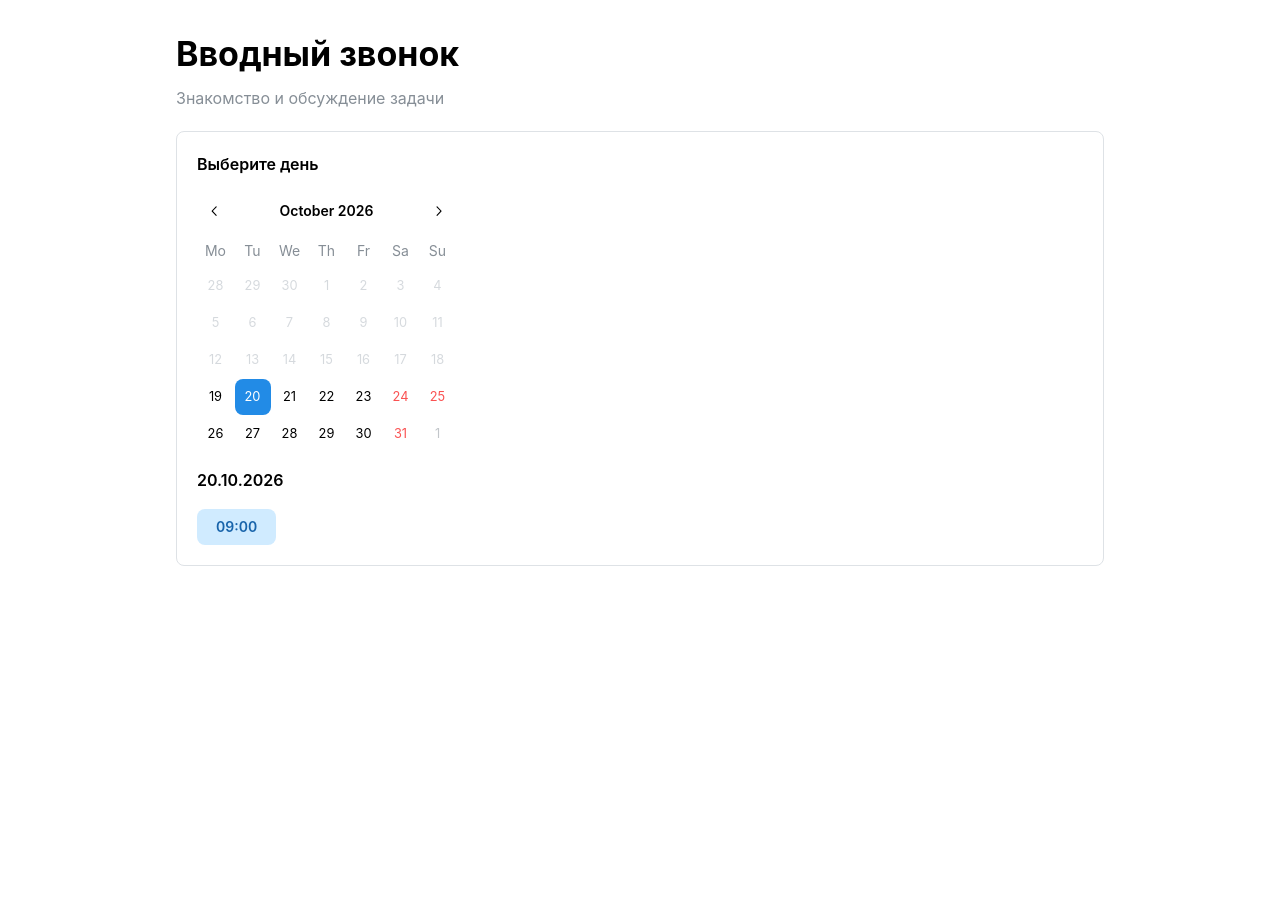
Test case: BookingPage (запись на слот) › создаёт запись с Idempotency-Key и показывает подтверждение
Expected: the heading "Вводный звонок" is shown, [176,33,459,74]
Click the button "09:00". click: (237, 527)
box: [197,509,276,545]
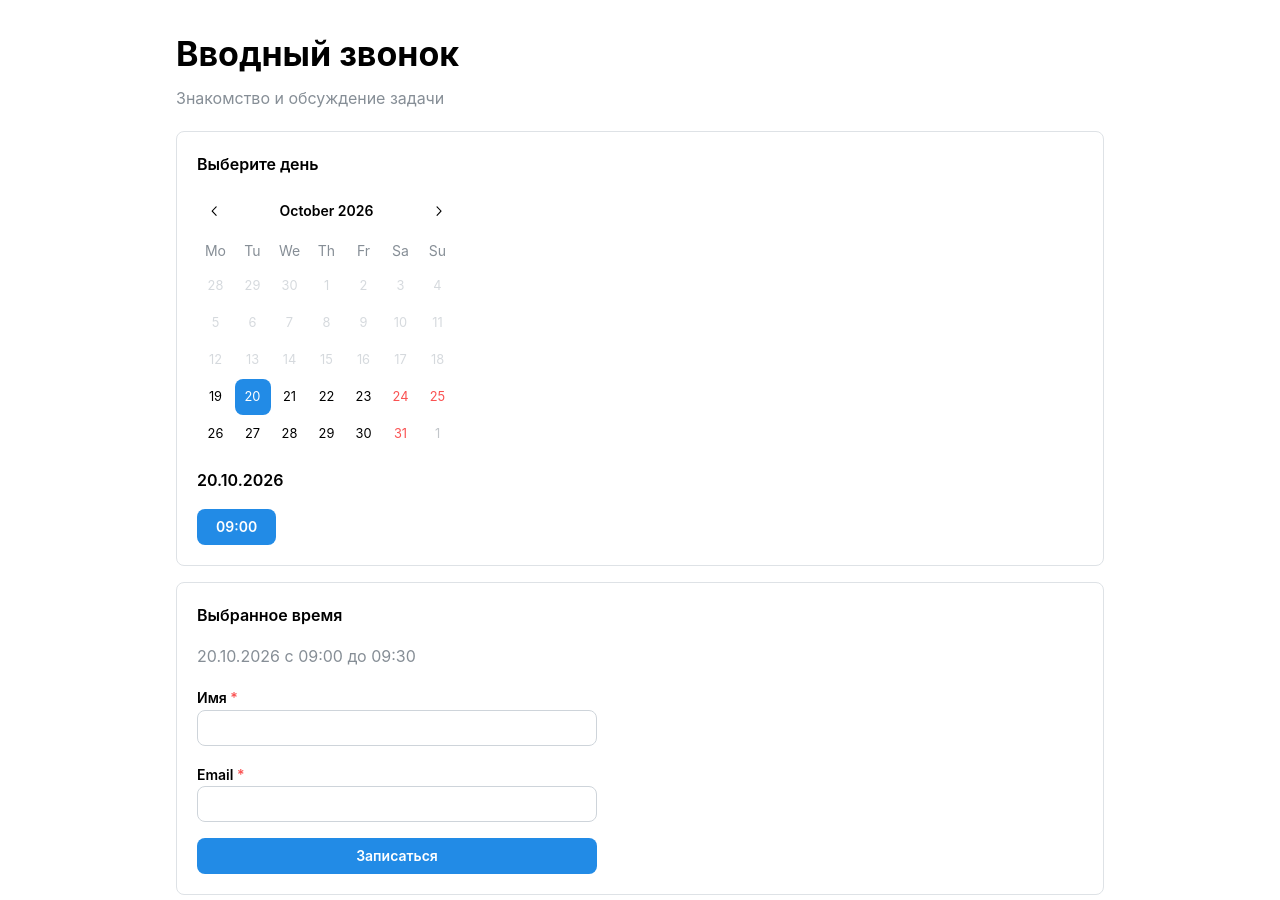
Type "Иван" into the field labelled "Имя *". click: (397, 728)
box: [197,710,597,746]
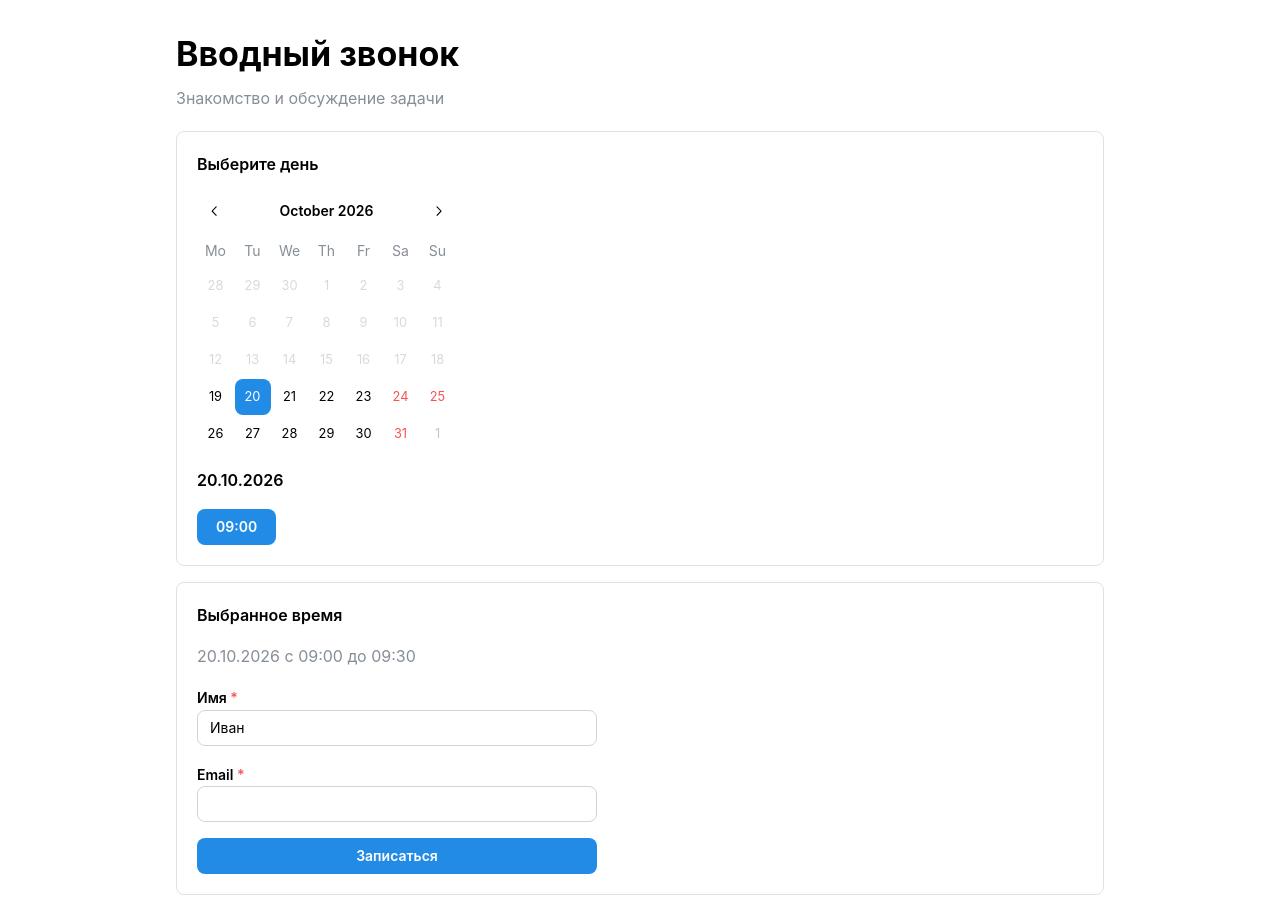
Type "ivan@example.com" into the field labelled "Email *". click: (397, 804)
box: [197,786,597,822]
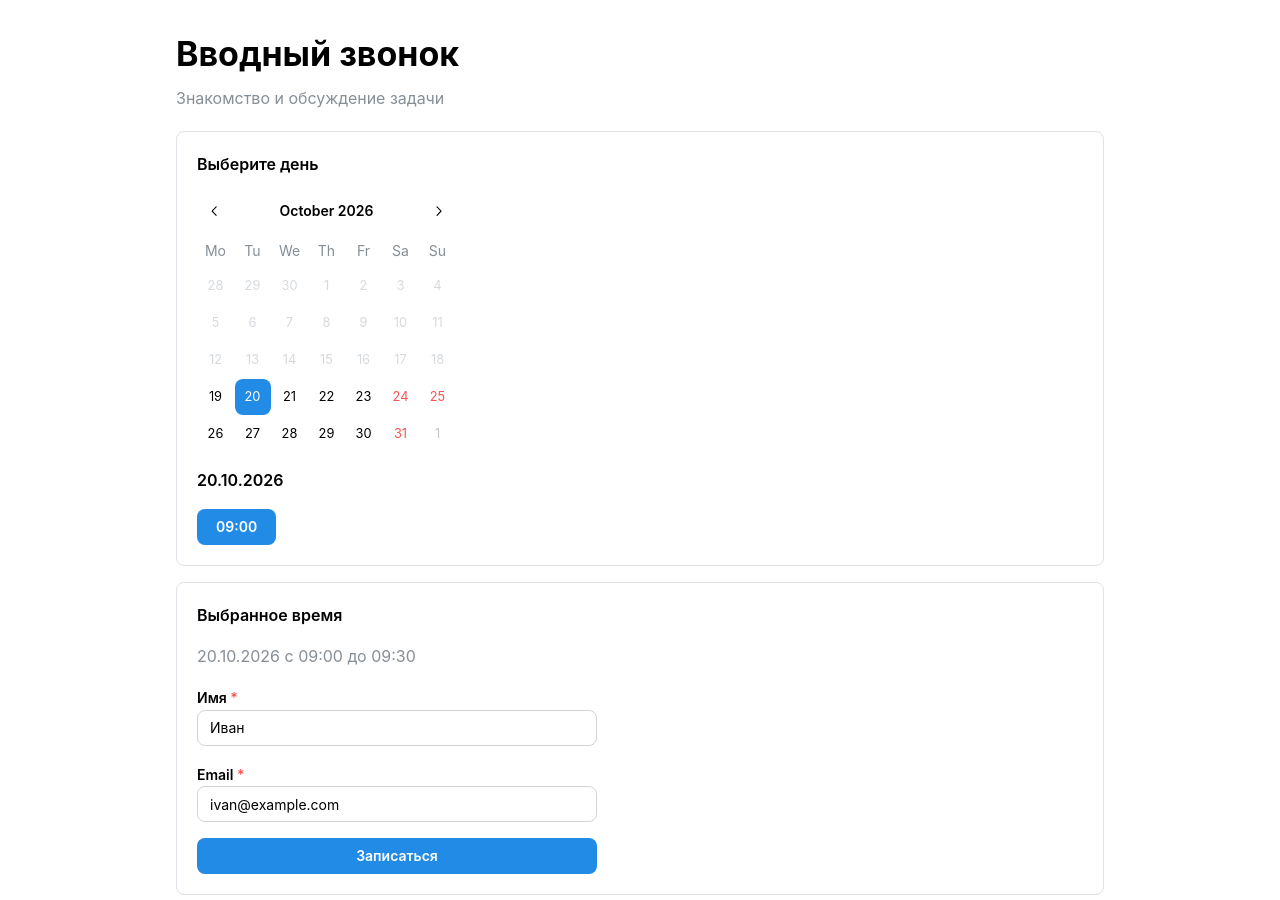
Click the button "Записаться". click: (397, 856)
box: [197,838,597,874]
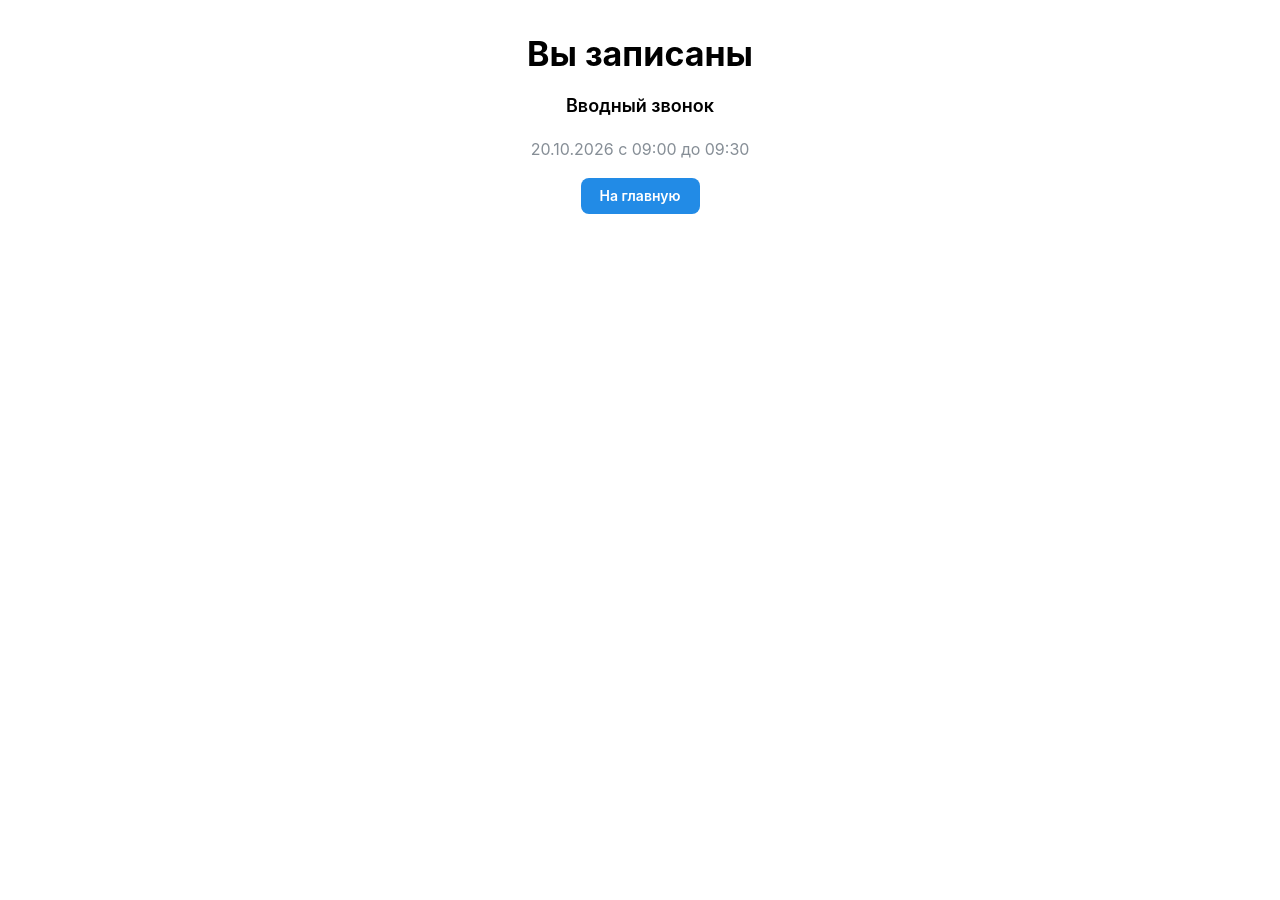
Expected: the text "Вводный звонок" is shown, [566,95,714,116]
Result: the heading "Вы записаны" is shown at [527,33,753,74]
